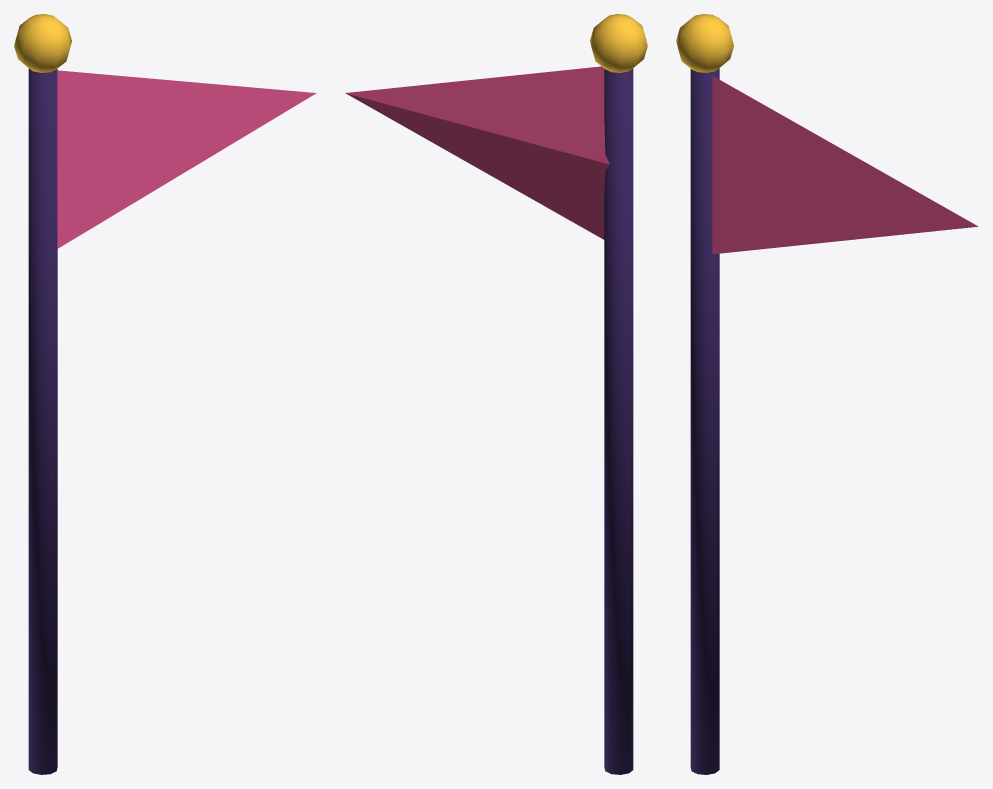
Rendered from P_Flag.fbx.
The picture shows the model from 3 angles, left to right: view 1: azimuth 30°, elevation 25°; view 2: azimuth 150°, elevation 25°; view 3: azimuth 330°, elevation 25°; orthographic projection.
Parts seen in each view (by area): view 1: P_Flag__Cloth, P_Flag__Pole, P_Flag__Gold; view 2: P_Flag__Cloth, P_Flag__Pole, P_Flag__Gold; view 3: P_Flag__Cloth, P_Flag__Pole, P_Flag__Gold.
Part boxes in pixels (<box>): P_Flag__Cloth: <box>57,70,316,248</box>; P_Flag__Pole: <box>28,68,57,774</box>; P_Flag__Gold: <box>14,14,71,72</box>; P_Flag__Cloth: <box>345,66,609,239</box>; P_Flag__Pole: <box>604,68,633,774</box>; P_Flag__Gold: <box>590,14,647,72</box>; P_Flag__Cloth: <box>712,76,978,254</box>; P_Flag__Pole: <box>690,68,719,774</box>; P_Flag__Gold: <box>676,14,733,72</box>.
Bounding box in the file's own units: 3.49 × 8.4 × 0.6.
